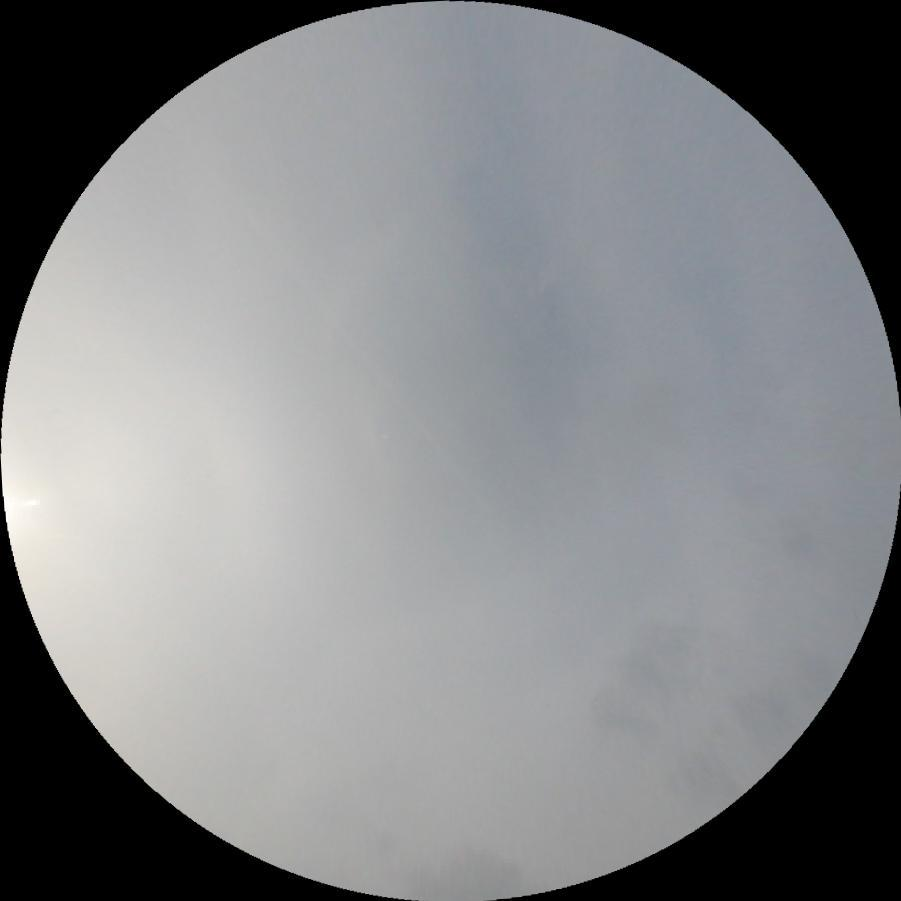contrail old: (190, 152, 516, 538)
